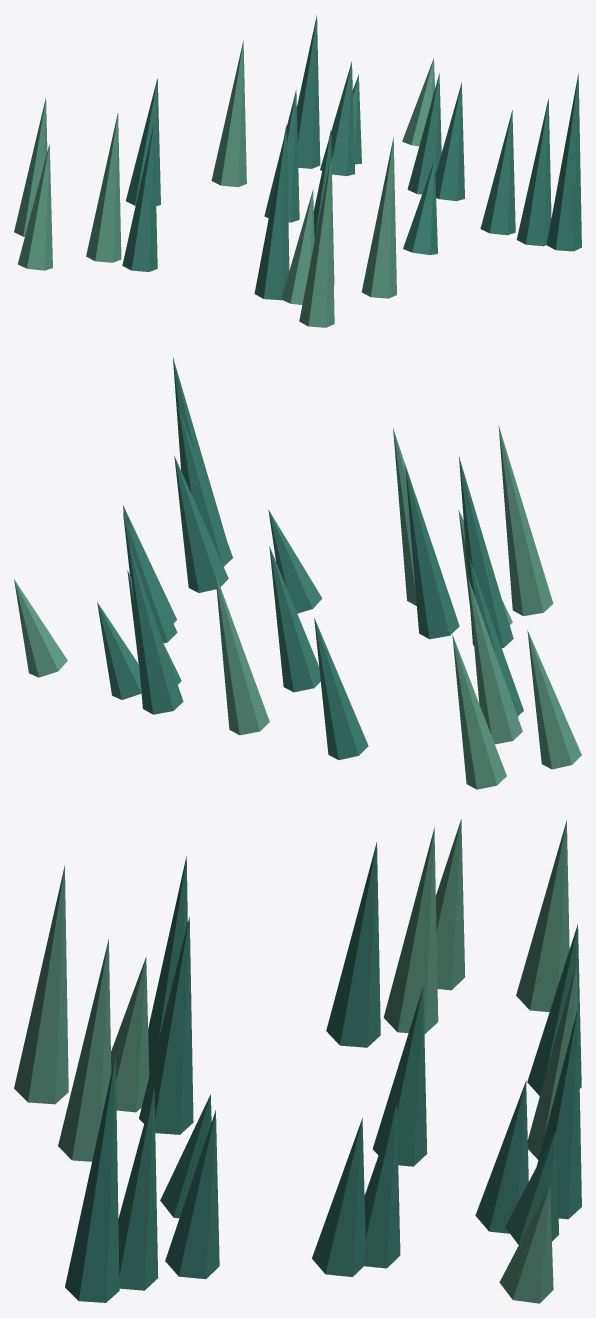
Rendered from SM_ENV_Groundcover_002_GrassPatch.glb.
3 views of the same model, one above another, from view 1: azimuth 30°, elevation 25°; view 2: azimuth 150°, elevation 25°; view 3: azimuth 270°, elevation 25° (orthographic). The views are drawn at different scales.
Visible parts, largest first — view 1: SM_ENV_Groundcover_002_GrassPatch; view 2: SM_ENV_Groundcover_002_GrassPatch; view 3: SM_ENV_Groundcover_002_GrassPatch.
Boxes of the visible parts, x1,y1,x2,y2 form: SM_ENV_Groundcover_002_GrassPatch: [14, 15, 581, 327]; SM_ENV_Groundcover_002_GrassPatch: [14, 358, 581, 789]; SM_ENV_Groundcover_002_GrassPatch: [14, 819, 581, 1303].
Size of the model in its own units: 1.03 by 0.3666 by 0.7236.
